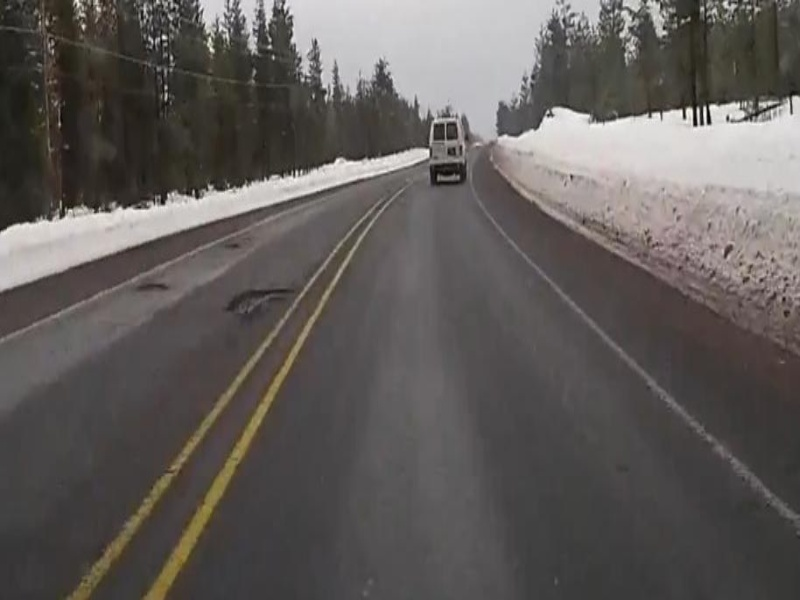pothole: (220, 286, 294, 316)
